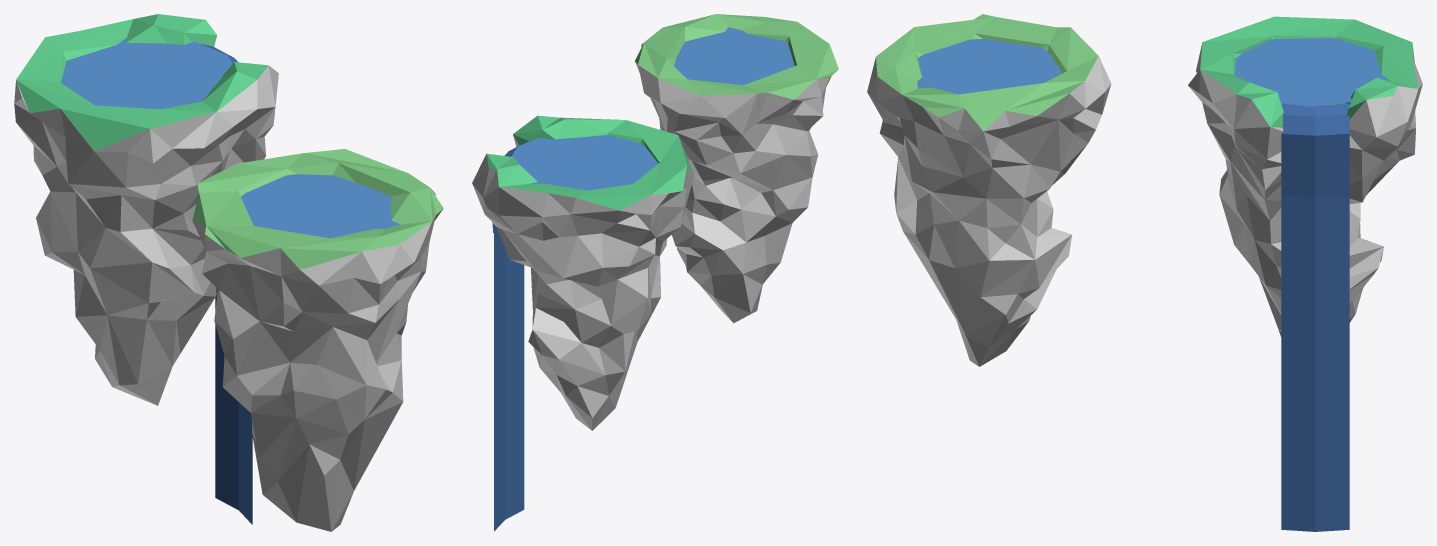
File: pools.fbx
3 renders of one model, left to right at view 1: azimuth 30°, elevation 25°; view 2: azimuth 150°, elevation 25°; view 3: azimuth 270°, elevation 25°, orthographic. The views are drawn at different scales.
Parts seen in each view (by area): view 1: Cube, Cube.001, Cylinder, Cylinder.001, Plane.001; view 2: Cube.001, Cube, Plane.001, Cylinder, Cylinder.001; view 3: Cube, Cube.001, Plane.001, Cylinder, Plane.002, Cylinder.001.
Boxes of the visible parts, x1,y1,x2,y2 form: Cube: [192, 149, 443, 531]; Cube.001: [14, 14, 278, 405]; Cylinder: [61, 37, 232, 109]; Cylinder.001: [241, 174, 399, 238]; Plane.001: [215, 295, 252, 524]; Cube.001: [472, 115, 694, 430]; Cube: [635, 14, 838, 323]; Plane.001: [494, 224, 524, 531]; Cylinder: [511, 135, 658, 190]; Cylinder.001: [674, 27, 794, 85]; Cube: [867, 14, 1111, 366]; Cube.001: [1188, 16, 1422, 336]; Plane.001: [1281, 103, 1349, 531]; Cylinder: [1234, 38, 1389, 106]; Plane.002: [1281, 104, 1349, 198]; Cylinder.001: [917, 39, 1061, 94].
Size of the model in its own units: 327 by 641 by 746.
